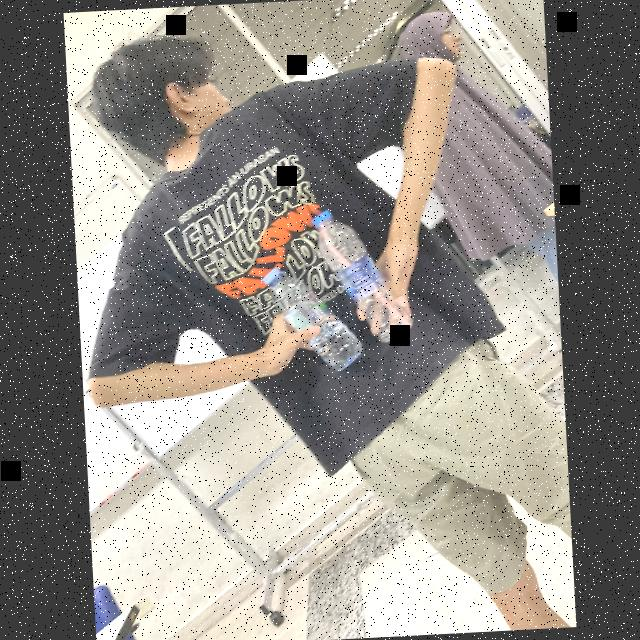plastic_bottle: (316, 208, 414, 344), (262, 260, 364, 376)
